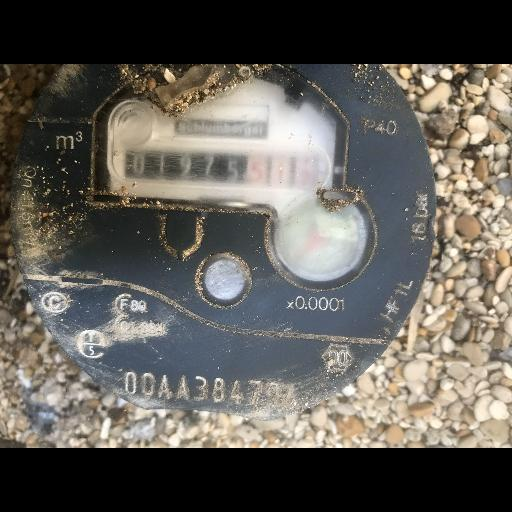0: (127, 149, 149, 180)
1: (271, 156, 290, 189), (153, 149, 172, 180)
2: (295, 158, 314, 188)
5: (221, 154, 244, 187), (245, 155, 268, 188)
7: (198, 152, 219, 185)
9: (174, 150, 196, 182)
border_water_meter_number: (107, 138, 327, 197)
